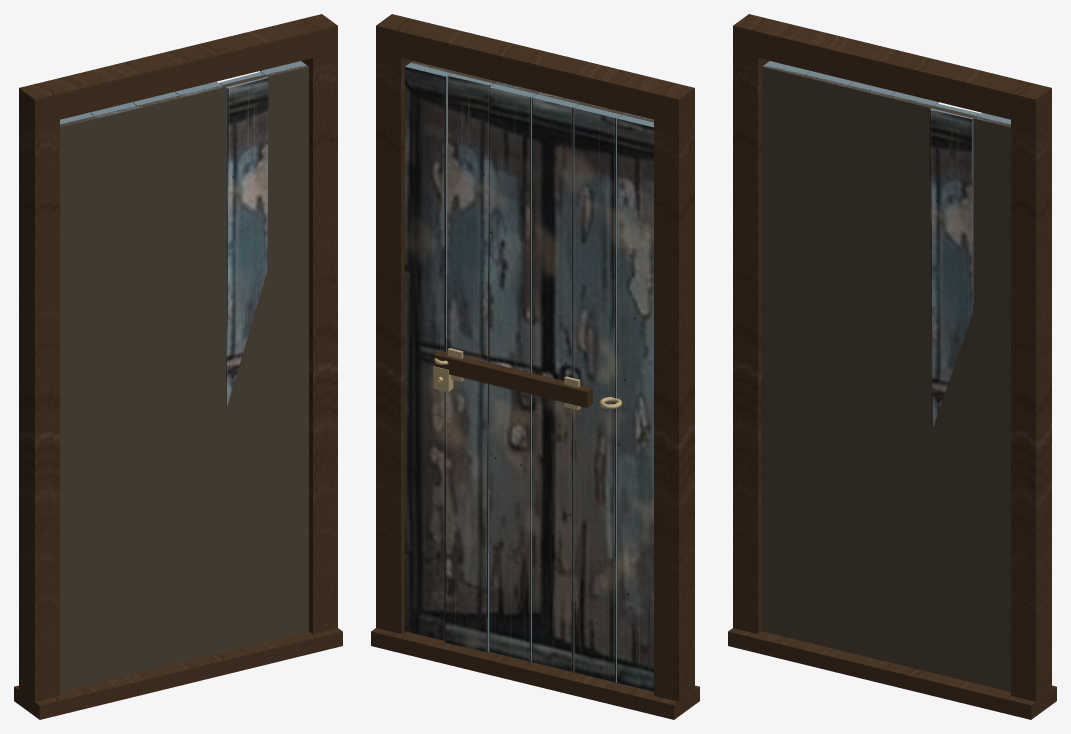
The model's file is cua-go.glb.
3 views of the same model, side by side, from view 1: azimuth 30°, elevation 25°; view 2: azimuth 150°, elevation 25°; view 3: azimuth 330°, elevation 25° (orthographic).
Parts seen in each view (by area): view 1: tam-lung; view 2: tam-lung; view 3: tam-lung.
Part boxes in pixels (<box>): tam-lung: <box>14,14,342,719</box>; tam-lung: <box>371,14,699,719</box>; tam-lung: <box>728,14,1056,719</box>.
Size of the model in its own units: 1.09 by 2.12 by 0.1651.
Materials: 5 (2 with a texture image).
